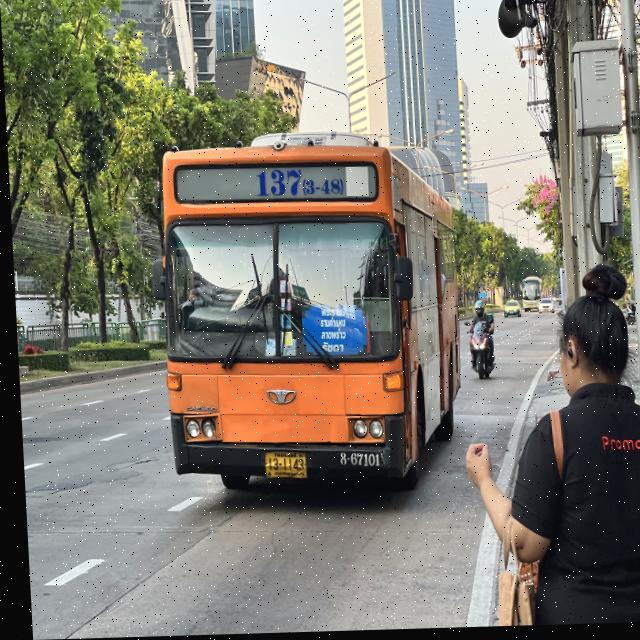BMTA-bus: (158, 139, 454, 492)
Bus Line Number: (248, 167, 345, 200)
Bus Side Number: (332, 450, 378, 472)
Destination Sign: (299, 303, 364, 361)
